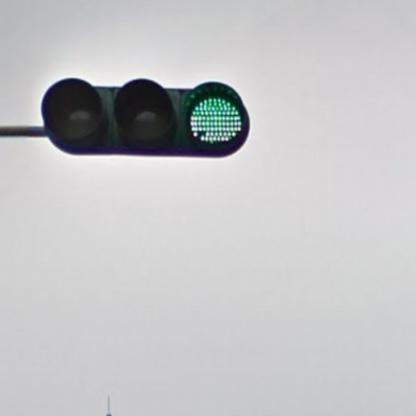Green Light: (40, 82, 250, 160)
